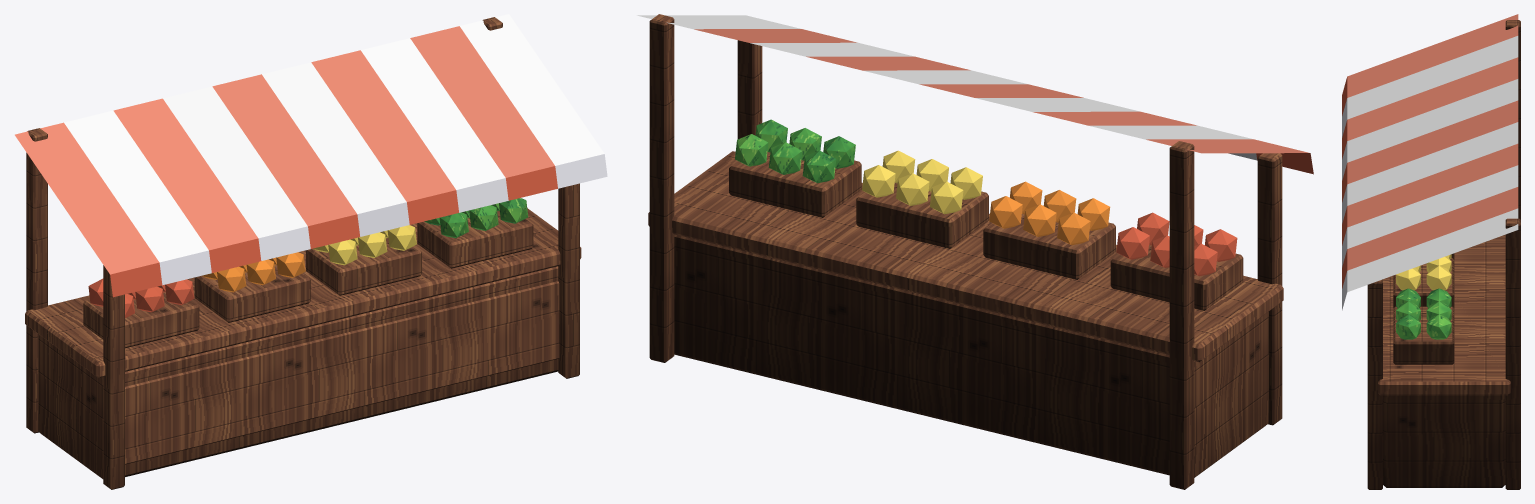
Rendered from market_stall.glb.
3 renders of one model, left to right at view 1: azimuth 30°, elevation 25°; view 2: azimuth 150°, elevation 25°; view 3: azimuth 270°, elevation 25°, orthographic. The views are drawn at different scales.
Visible parts, largest first — view 1: market_stall; view 2: market_stall; view 3: market_stall.
Boxes of the visible parts, x1,y1,x2,y2 form: market_stall: (15, 14, 607, 489); market_stall: (637, 14, 1313, 489); market_stall: (1342, 14, 1520, 489).
Bounding box in the file's own units: 2 × 1.15 × 0.7.
Materials: 8 (8 with a texture image).
